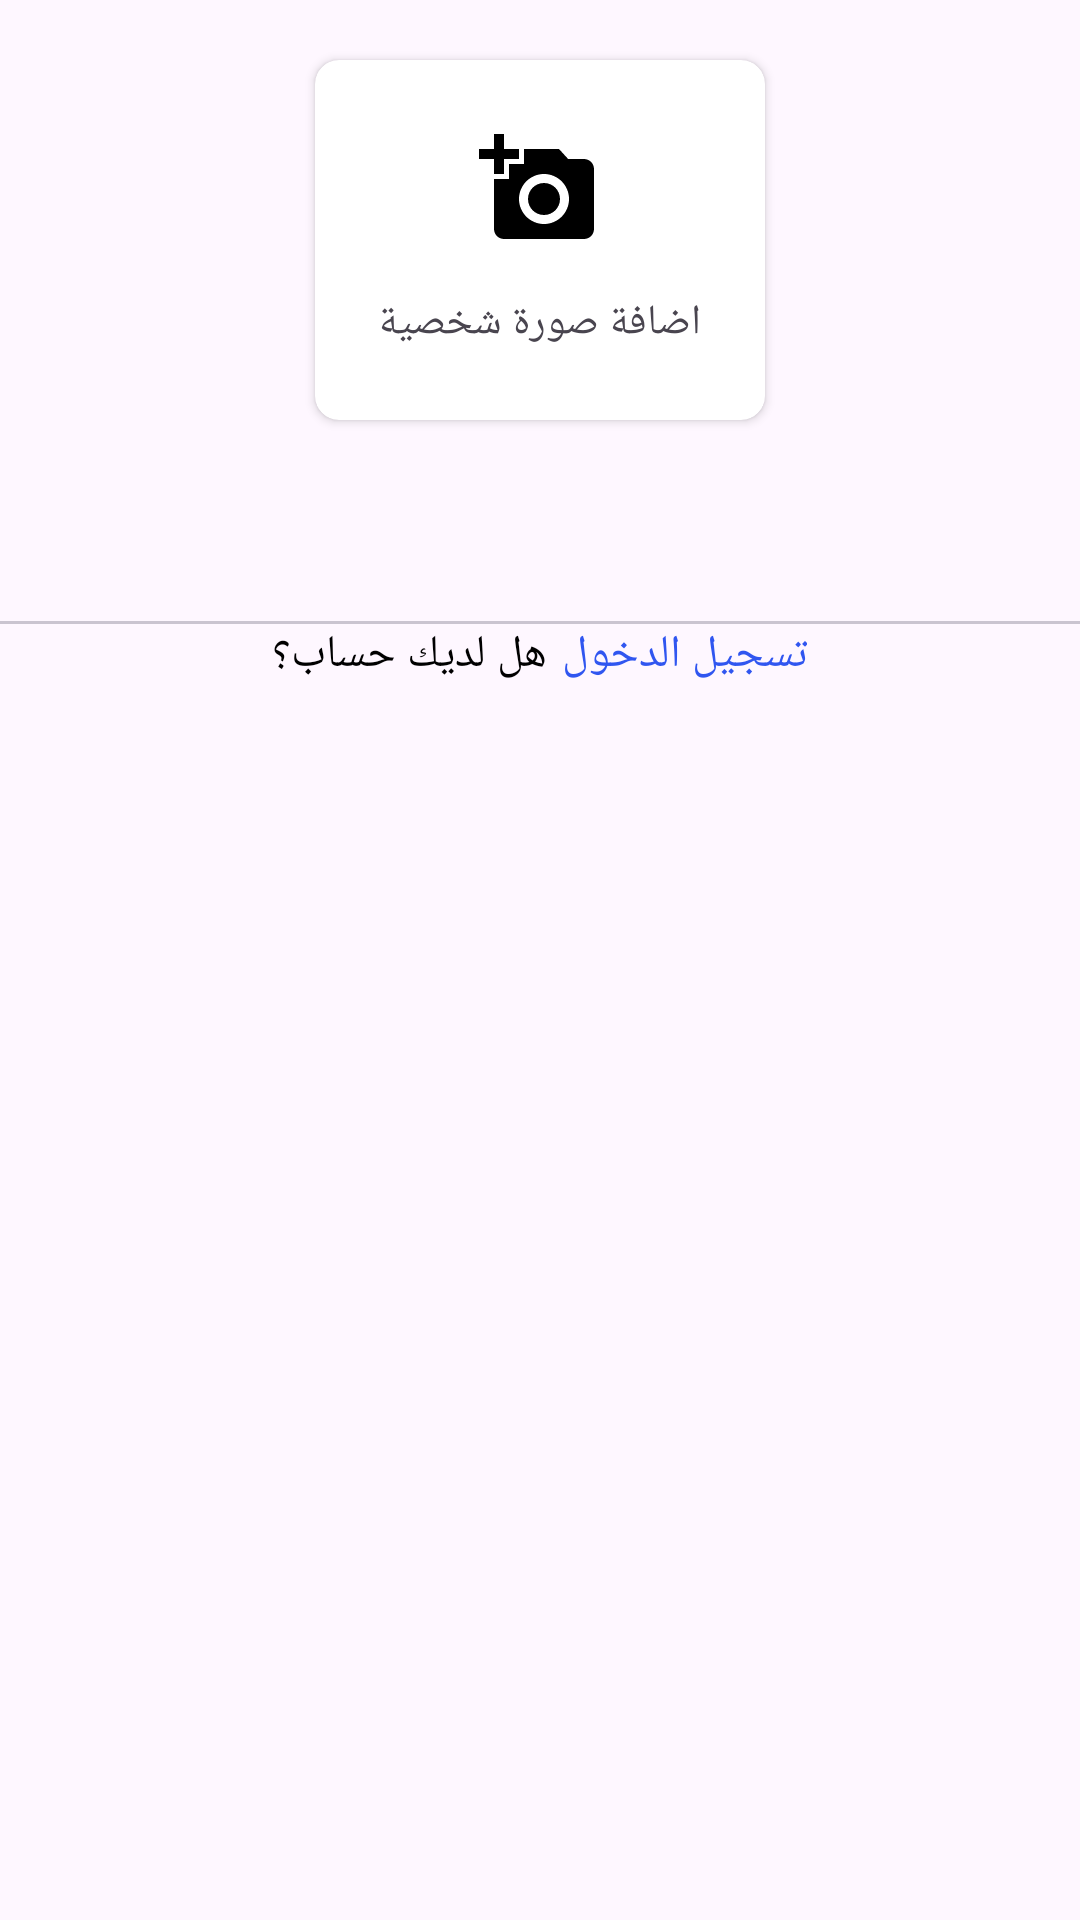

Screen size 1080 x 1920. Icon name, then its center in pixels as (x=x, y=y):
add photo: (x=536, y=186)
